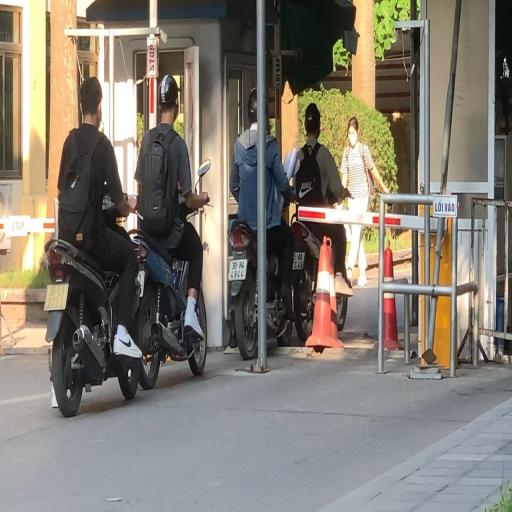bike: (44, 76, 142, 418), (127, 76, 210, 388), (223, 85, 293, 360), (290, 102, 348, 342)
numberplate: (44, 284, 68, 311), (228, 258, 247, 282), (293, 251, 305, 270)
with helmet: (156, 74, 179, 106), (246, 86, 258, 122), (305, 102, 320, 129)
